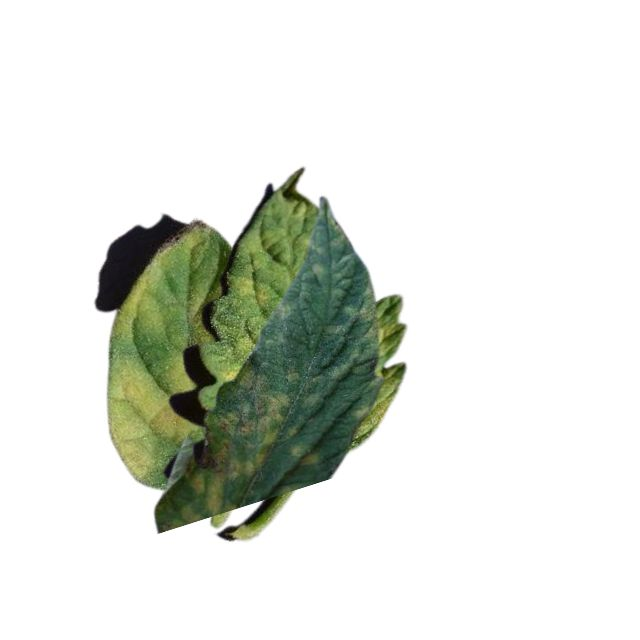Leaf_Mold: (173, 362, 287, 526), (98, 355, 194, 481), (108, 265, 164, 340), (228, 273, 269, 315)
